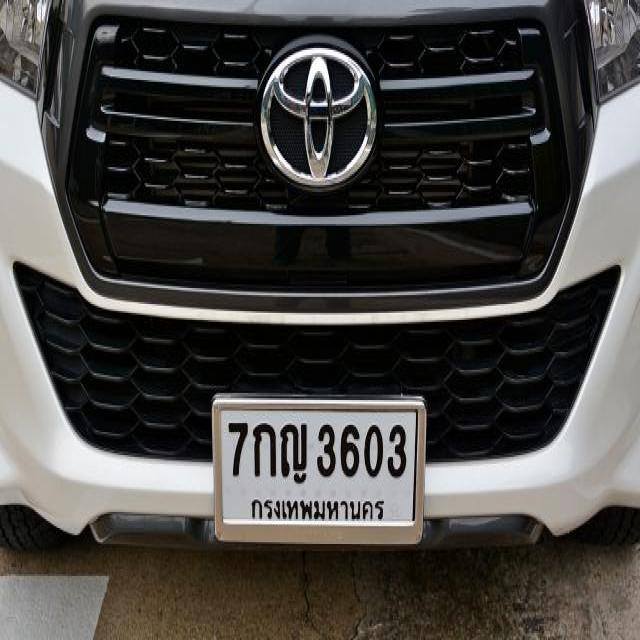plate: (216, 402, 418, 528)
